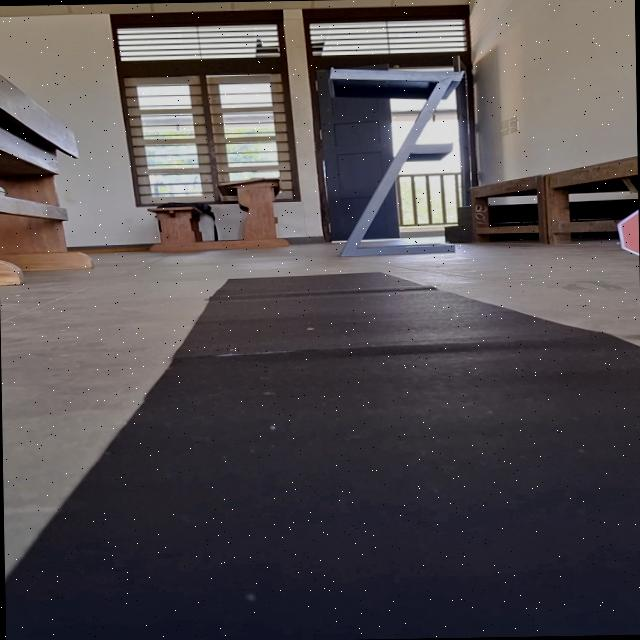Stop: (614, 200, 639, 266)
